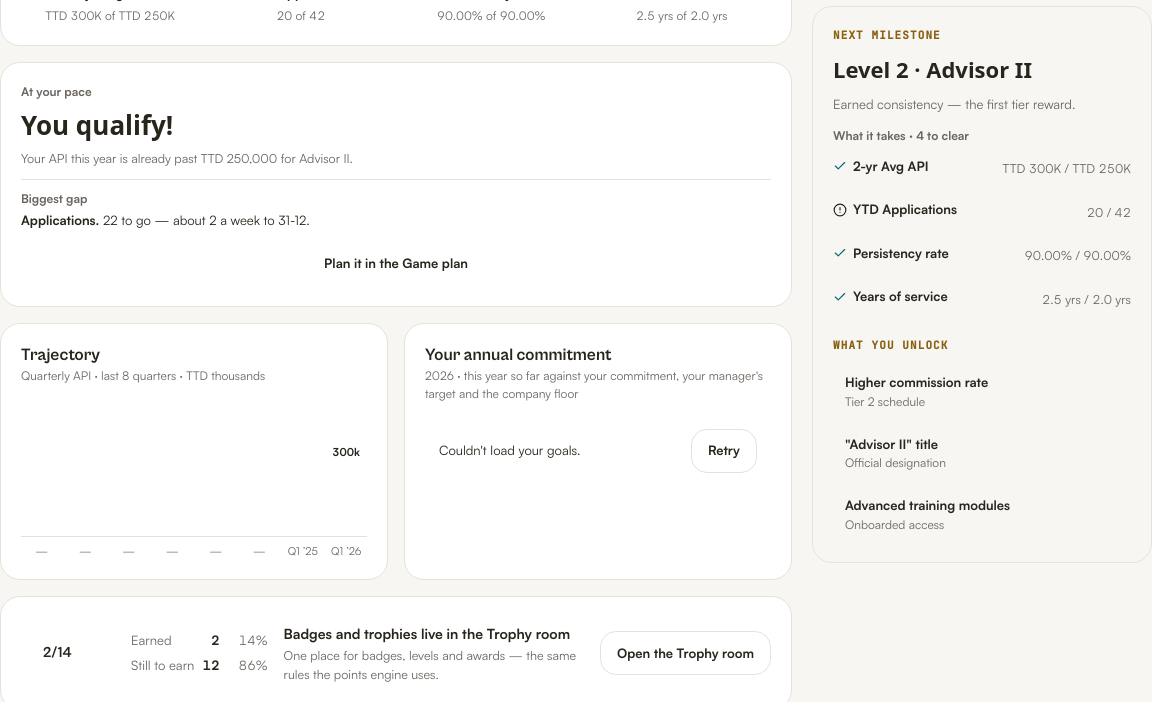
Scenario: FrCareer — screen › commitment read failed → Edit is disabled; Retry reads again
The width and height of the screenshot is (1152, 702).
(page scrolled)
What coordinates should you click on to do the following:
click the button "Retry"
I would click on:
 (724, 451)
Its box is x1=691 y1=429 x2=757 y2=473.
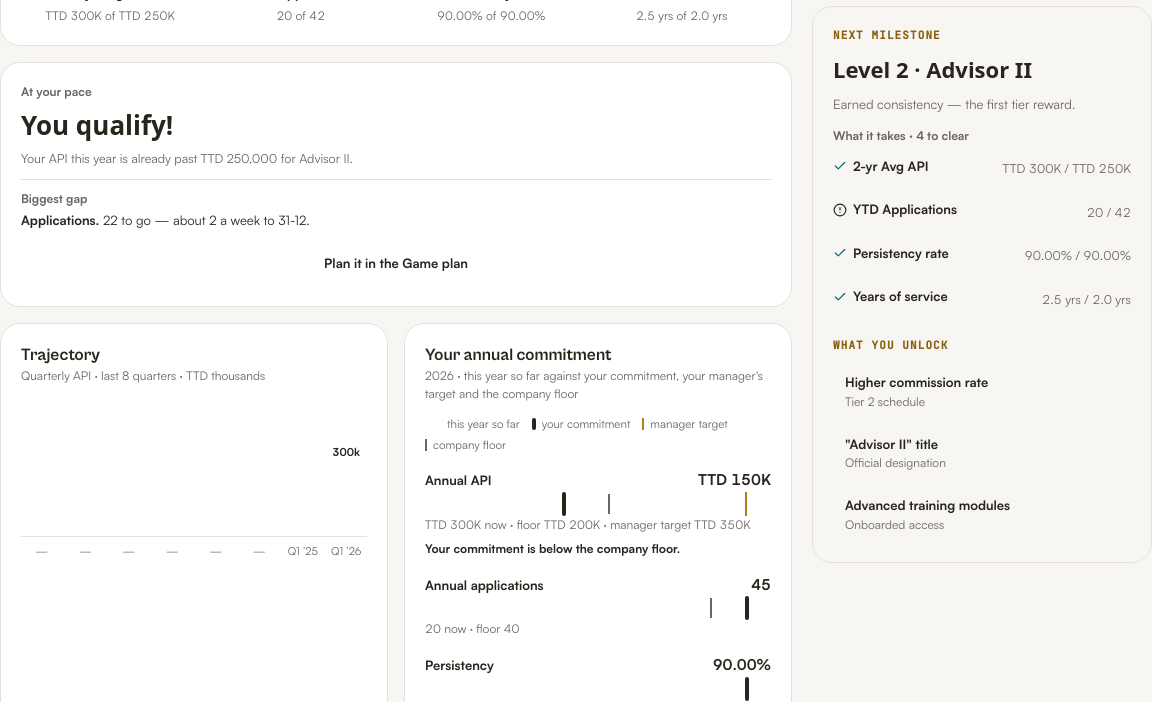
expect the element with test id "fr-career-commit-api" is shown: met, box x1=425 y1=469 x2=771 y2=558
